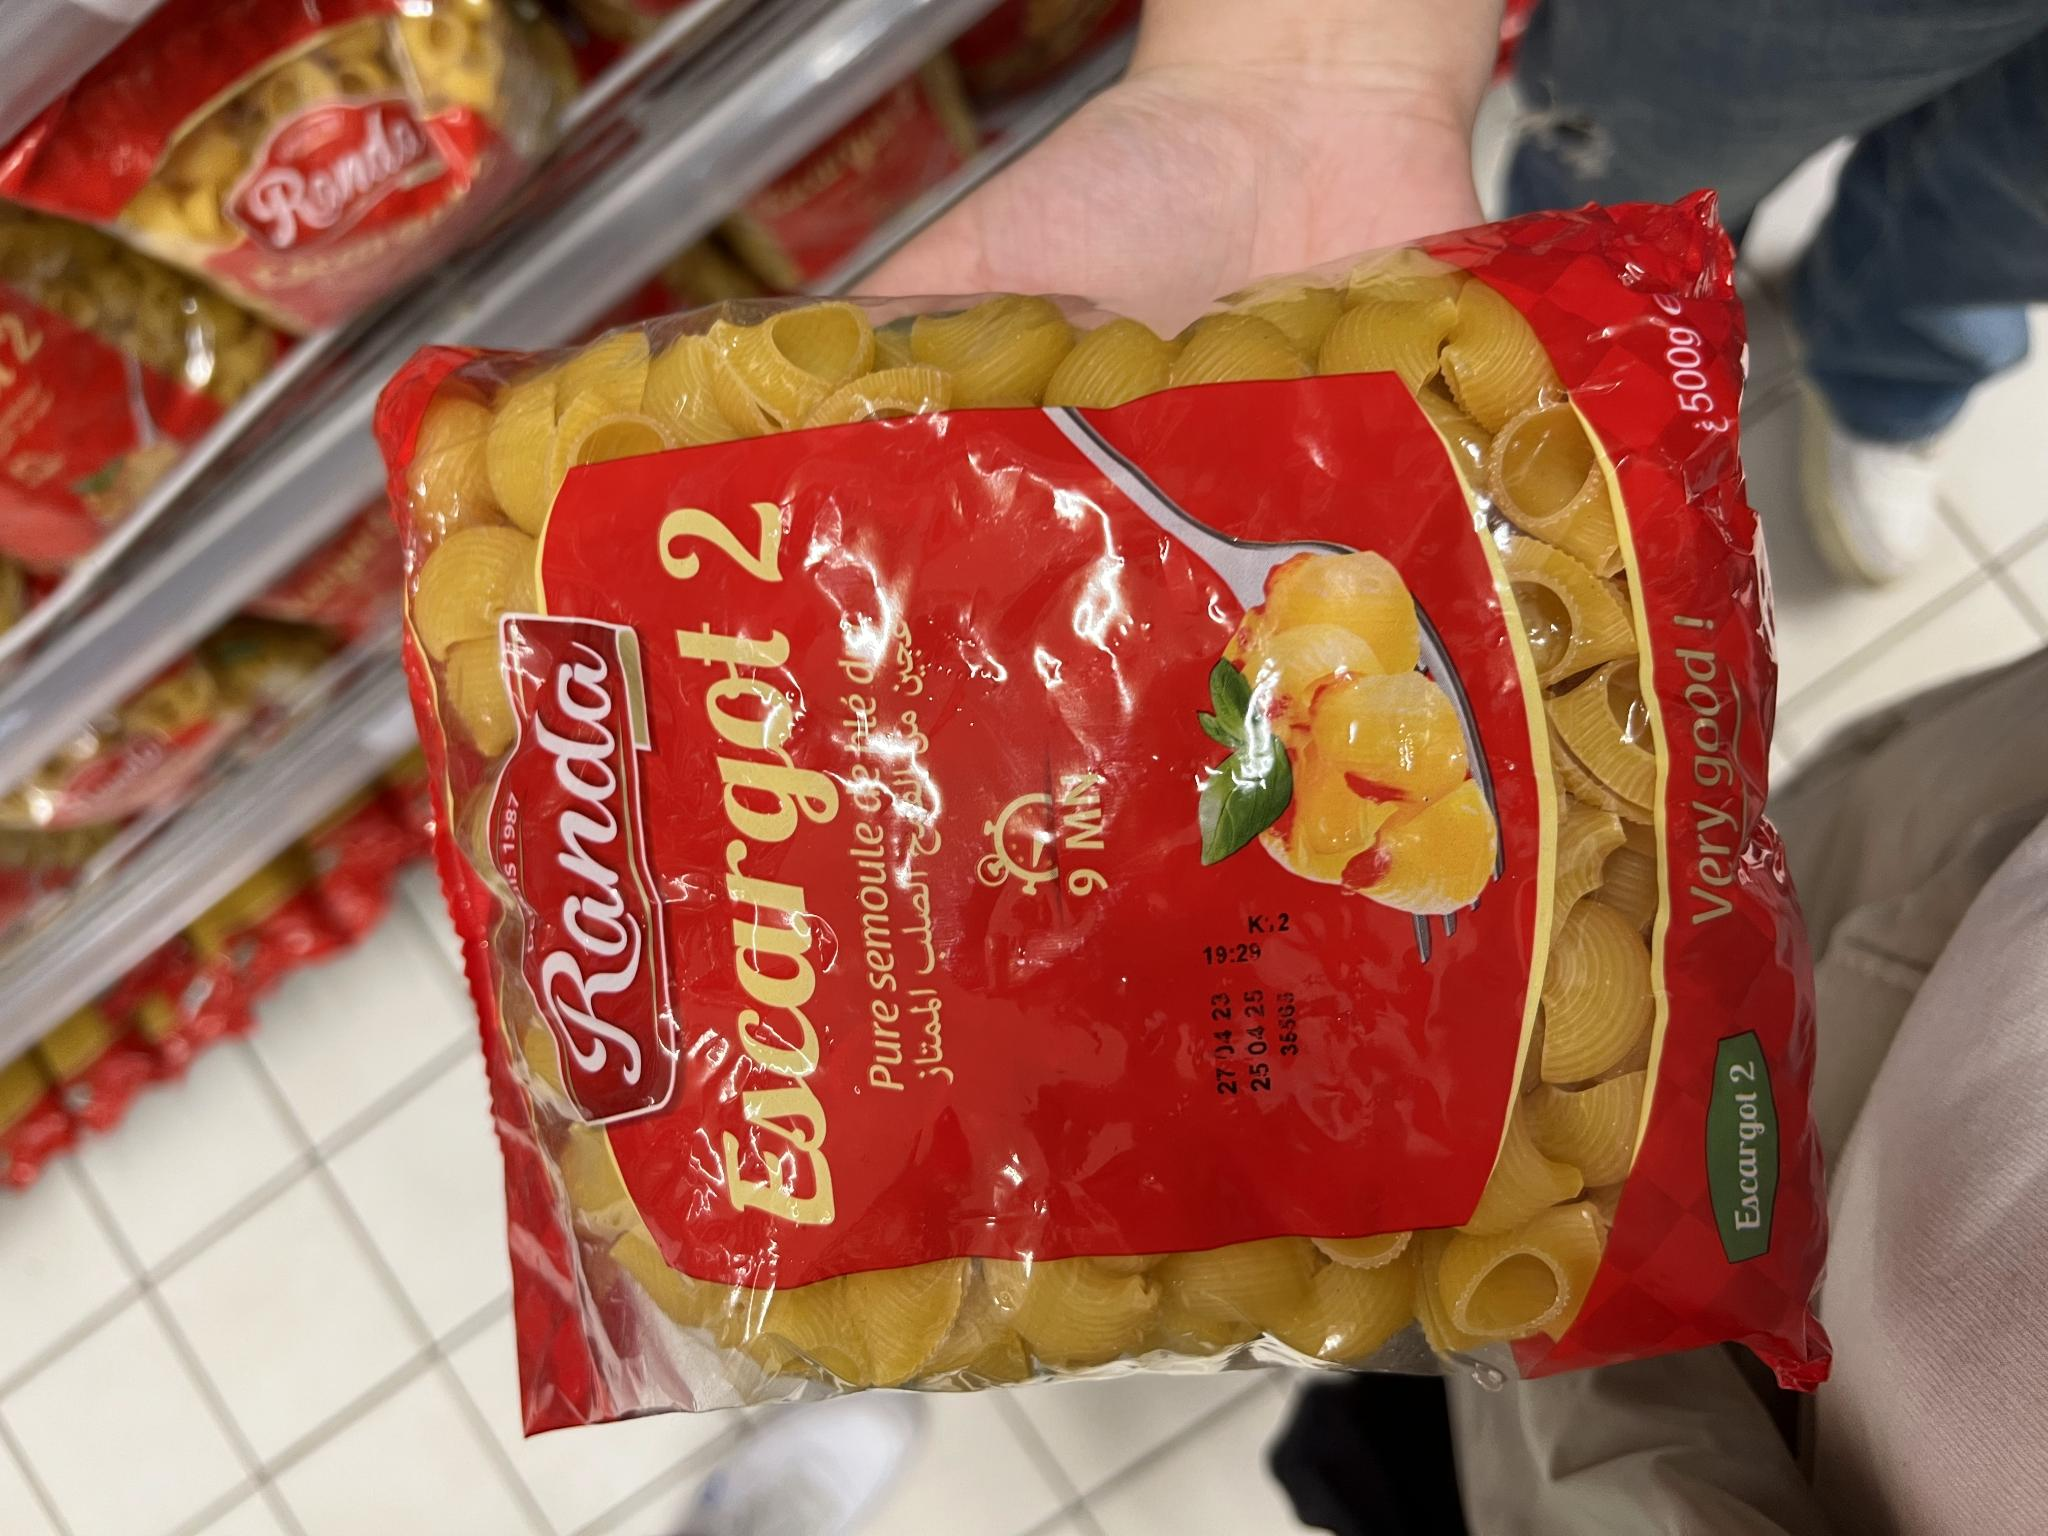Escargot: (342, 179, 1874, 1441)
